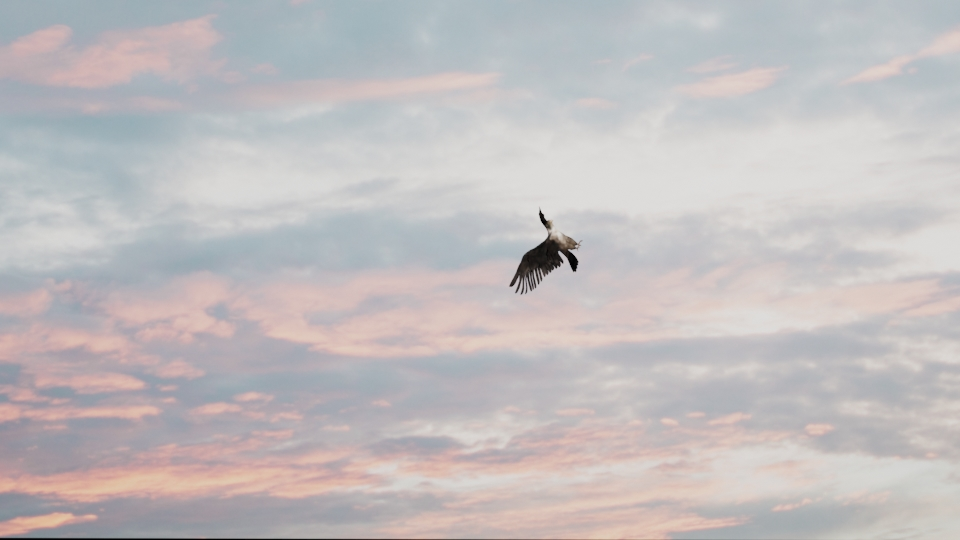bird: (507, 207, 585, 295)
